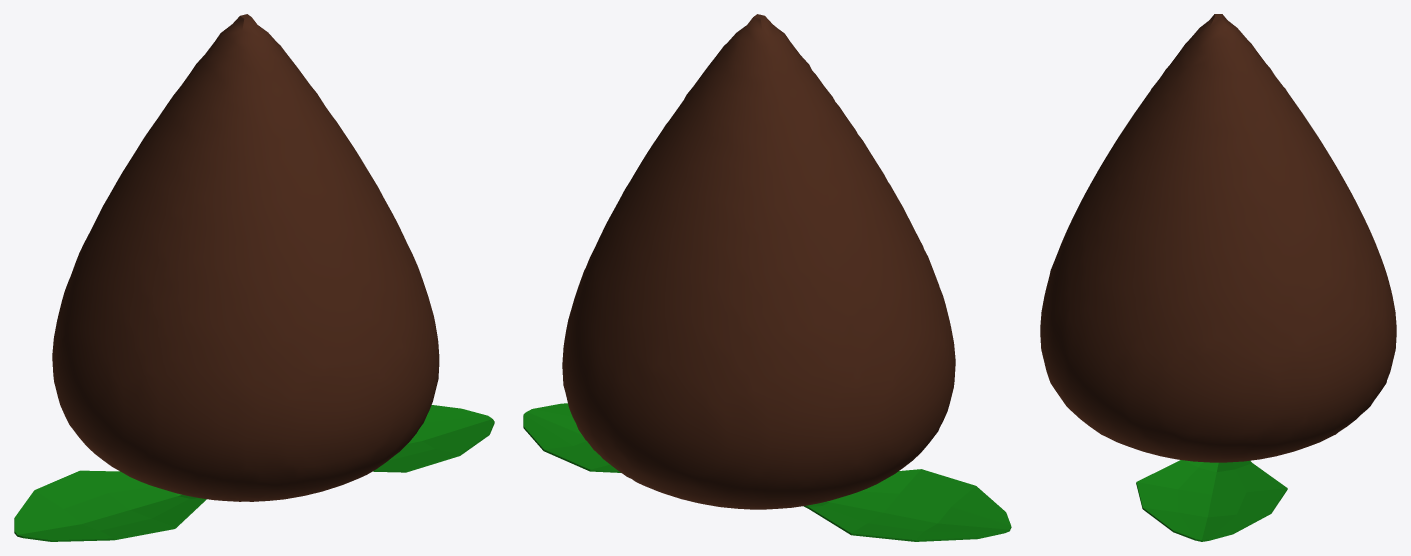
File: Brown_Seed.fbx
3 views of the same model, side by side, from view 1: azimuth 30°, elevation 25°; view 2: azimuth 150°, elevation 25°; view 3: azimuth 270°, elevation 25° (orthographic). The views are drawn at different scales.
Parts seen in each view (by area): view 1: Cone, Leaf.004; view 2: Cone, Leaf.004; view 3: Cone, Leaf.004.
Boxes of the visible parts, left/top/right/bottom form: Cone: left=52, top=14, right=439, bottom=501; Leaf.004: left=14, top=405, right=494, bottom=541; Cone: left=562, top=14, right=955, bottom=509; Leaf.004: left=523, top=403, right=1011, bottom=541; Cone: left=1040, top=14, right=1396, bottom=462; Leaf.004: left=1136, top=460, right=1287, bottom=541.
Bounding box in the file's own units: 181 × 174 × 127.
